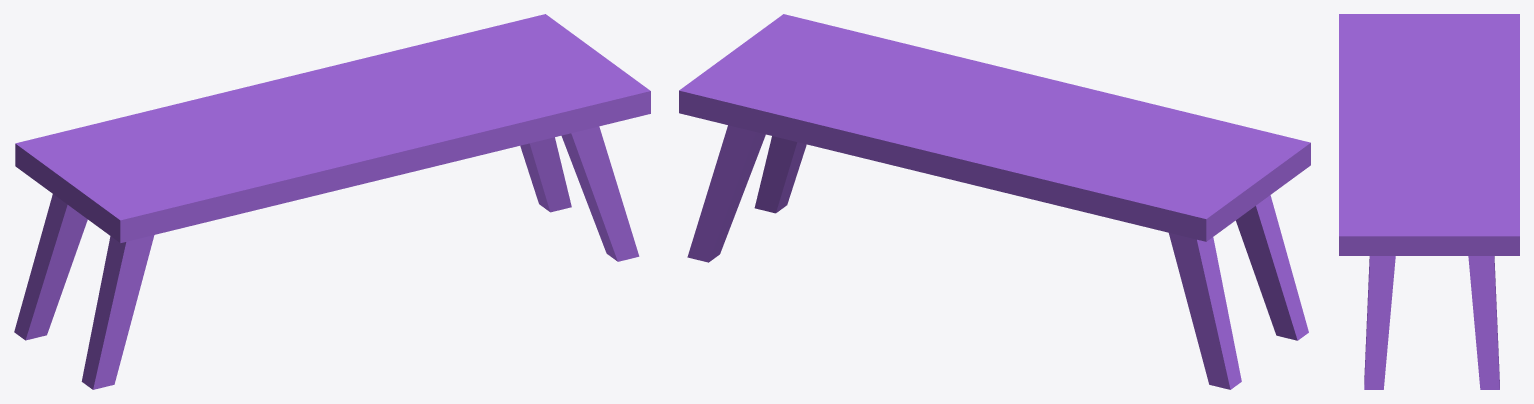
Rendered from Table.glb.
3 views of the same model, side by side, from view 1: azimuth 30°, elevation 25°; view 2: azimuth 150°, elevation 25°; view 3: azimuth 270°, elevation 25° (orthographic). The views are drawn at different scales.
Parts seen in each view (by area): view 1: Cube; view 2: Cube; view 3: Cube.
Part boxes in pixels (bbox=[...]): Cube: bbox=[14, 14, 650, 389]; Cube: bbox=[679, 14, 1310, 389]; Cube: bbox=[1339, 14, 1519, 389].
Size of the model in its own units: 1.71 by 0.5302 by 0.5707.
